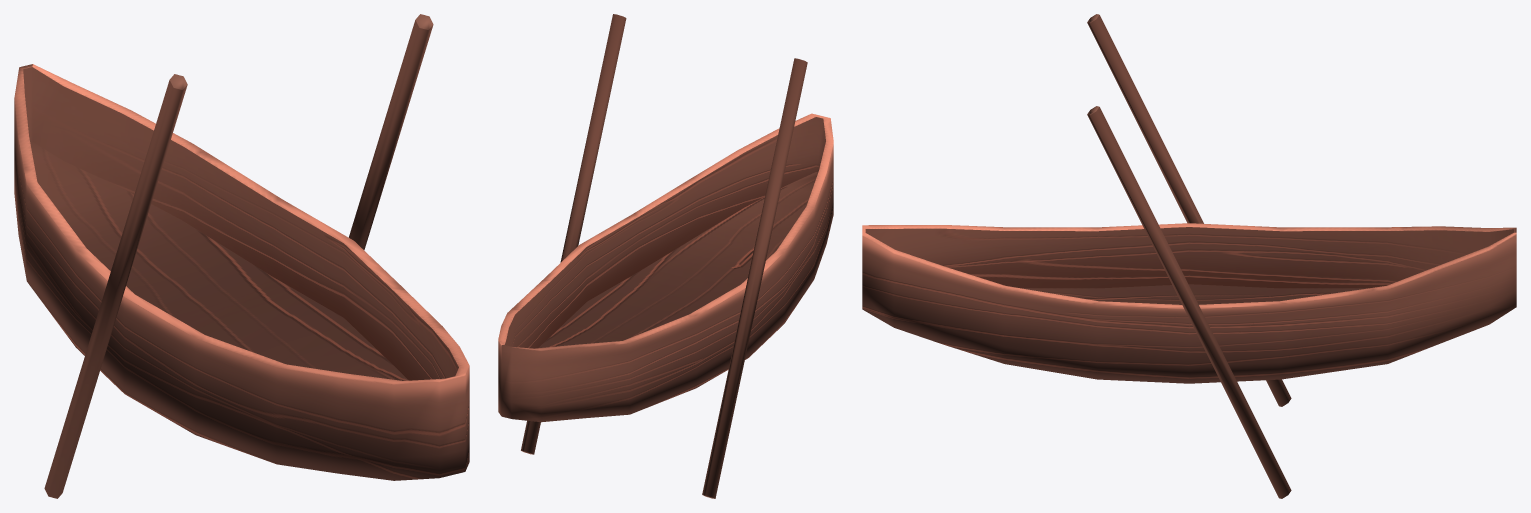
Rendered from Boat_See.fbx.
The picture shows the model from 3 angles, left to right: view 1: azimuth 30°, elevation 25°; view 2: azimuth 150°, elevation 25°; view 3: azimuth 270°, elevation 25°; orthographic projection. The views are drawn at different scales.
Parts seen in each view (by area): view 1: Cube.001; view 2: Cube.001; view 3: Cube.001.
Boxes of the visible parts, x1=… form: Cube.001: x1=14, y1=14, x2=469, y2=498; Cube.001: x1=498, y1=14, x2=833, y2=498; Cube.001: x1=862, y1=14, x2=1516, y2=498.
Size of the model in its own units: 526 by 988 by 1495.
Materials: 1 (1 with a texture image).
